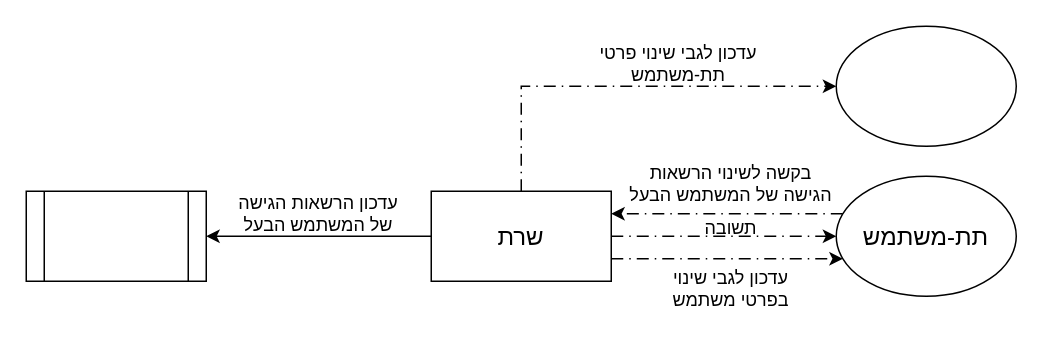
Image size: 1043x338. Some labels were removed from this diagram. The shapes that lost their labels are listed below. From the top down, each one's box as (x1, y1, x2, y2) in pixels, then its label:
(835, 25, 1016, 146): משתמש בעל
(25, 190, 206, 281): מסד נתונים
